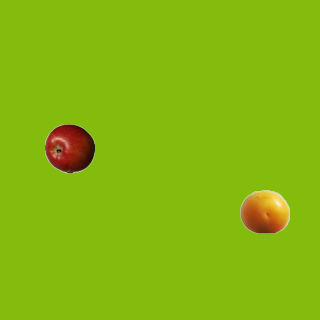Apple Braeburn: (44, 123, 94, 173)
Cherry Wax Yellow: (239, 186, 289, 236)
